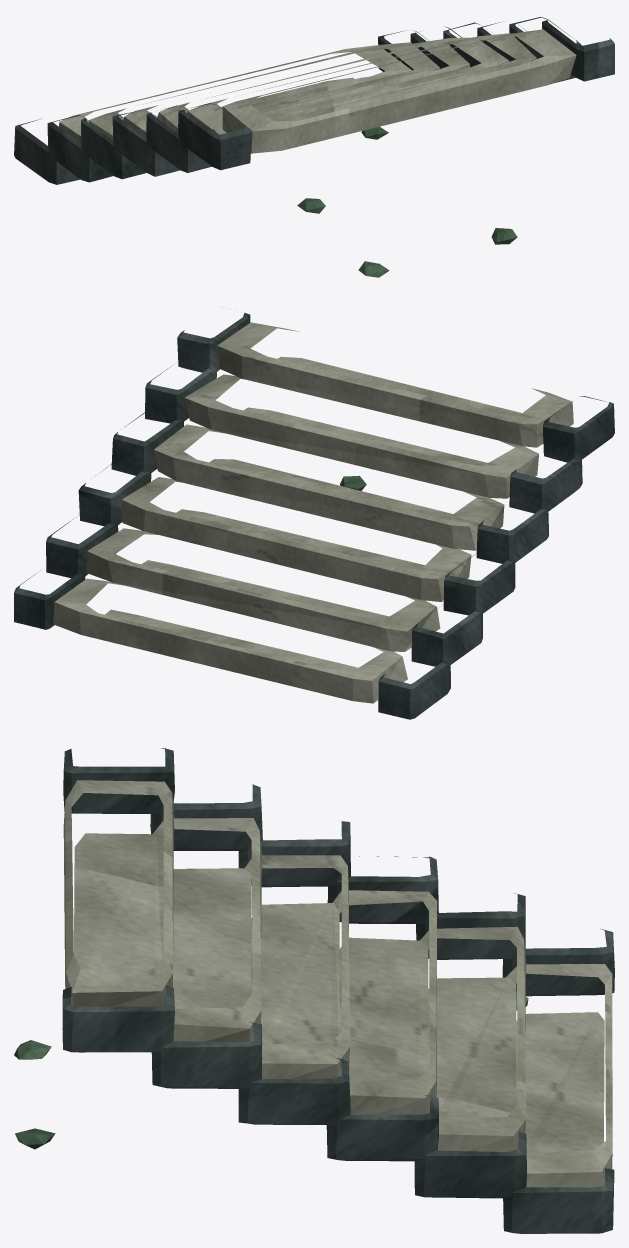
Rendered from 0354_stairs_04.glb.
3 views of the same model, one above another, from view 1: azimuth 30°, elevation 25°; view 2: azimuth 150°, elevation 25°; view 3: azimuth 270°, elevation 25° (orthographic). The views are drawn at different scales.
Visible parts, largest first — view 1: stone_light, stone_dark, moss; view 2: stone_light, stone_dark; view 3: stone_light, stone_dark, moss.
Boxes of the visible parts, <box> form: stone_light: <box>59,29,576,153</box>; stone_dark: <box>14,17,614,184</box>; moss: <box>297,126,517,277</box>; stone_light: <box>53,322,573,703</box>; stone_dark: <box>14,312,614,719</box>; stone_light: <box>63,780,612,1187</box>; stone_dark: <box>62,748,614,1233</box>; moss: <box>14,992,528,1149</box>.
Size of the model in its own units: 3.1 by 1.27 by 3.
3 materials, 3 textured.
